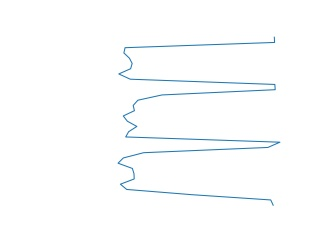majorRiverChannelBar: (114, 36, 284, 206)
